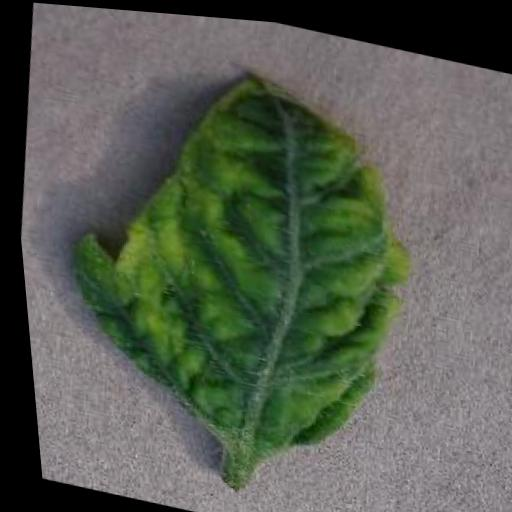Yellow Leaf Curl Virus: (32, 30, 436, 474)
